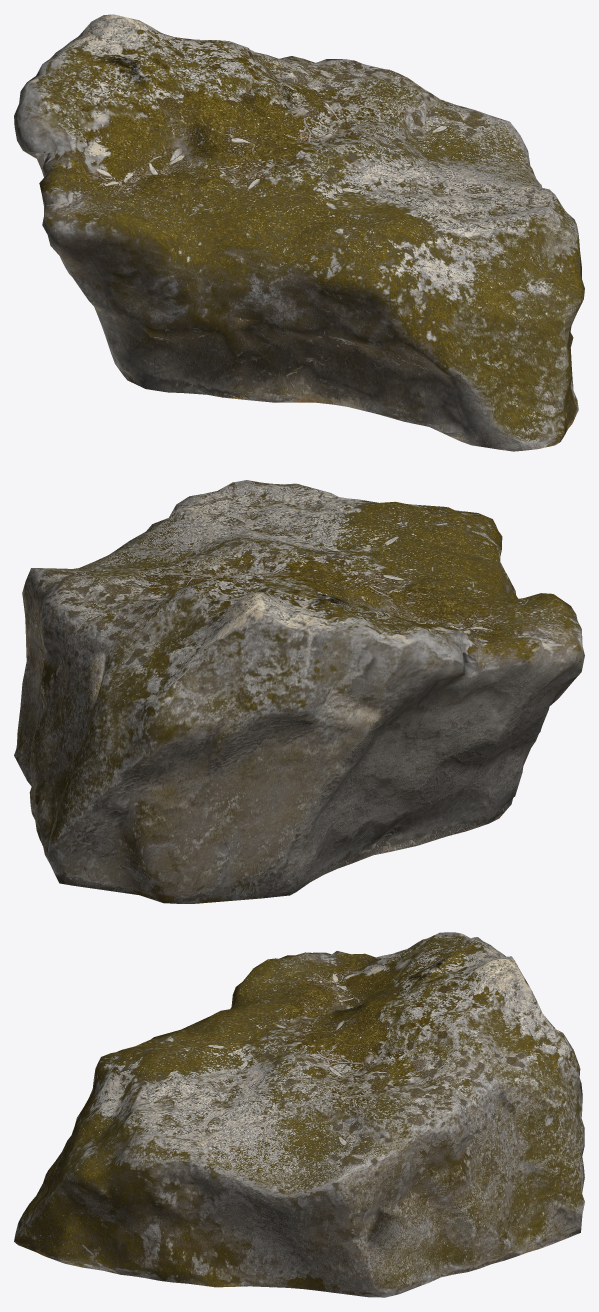
The model's file is SM_RockBoulder_02.fbx.
The picture shows the model from 3 angles, top to bottom: view 1: azimuth 30°, elevation 25°; view 2: azimuth 150°, elevation 25°; view 3: azimuth 270°, elevation 25°; orthographic projection. The views are drawn at different scales.
Visible parts, largest first — view 1: SM_RockBoulder_02; view 2: SM_RockBoulder_02; view 3: SM_RockBoulder_02.
Boxes of the visible parts, left/top/right/bottom form: SM_RockBoulder_02: left=14, top=14, right=584, bottom=451; SM_RockBoulder_02: left=14, top=480, right=584, bottom=903; SM_RockBoulder_02: left=14, top=932, right=584, bottom=1297.
Bounding box in the file's own units: 335 × 400 × 170.
Materials: 1 (1 with a texture image).
